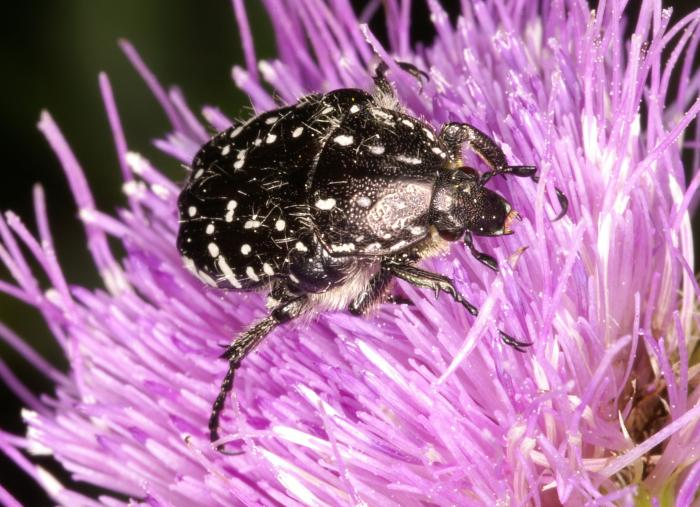Oxythyrea_funesta: (155, 52, 569, 462)
